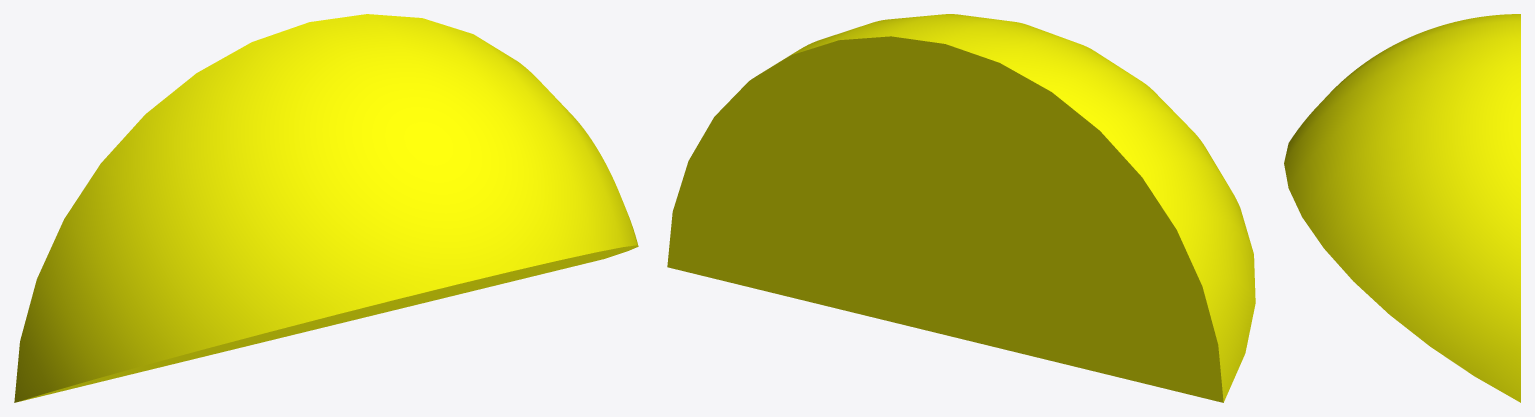
The model's file is pacman_half_up.obj.
3 renders of one model, left to right at view 1: azimuth 30°, elevation 25°; view 2: azimuth 150°, elevation 25°; view 3: azimuth 270°, elevation 25°, orthographic. The views are drawn at different scales.
Parts seen in each view (by area): view 1: Sphere03; view 2: Sphere03; view 3: Sphere03.
Boxes of the visible parts, x1,y1,x2,y2 form: Sphere03: (14, 14, 638, 402); Sphere03: (667, 14, 1255, 402); Sphere03: (1284, 14, 1520, 402).
Bounding box in the file's own units: 120 × 60 × 51.96.
Materials: 1 (1 with a texture image).
